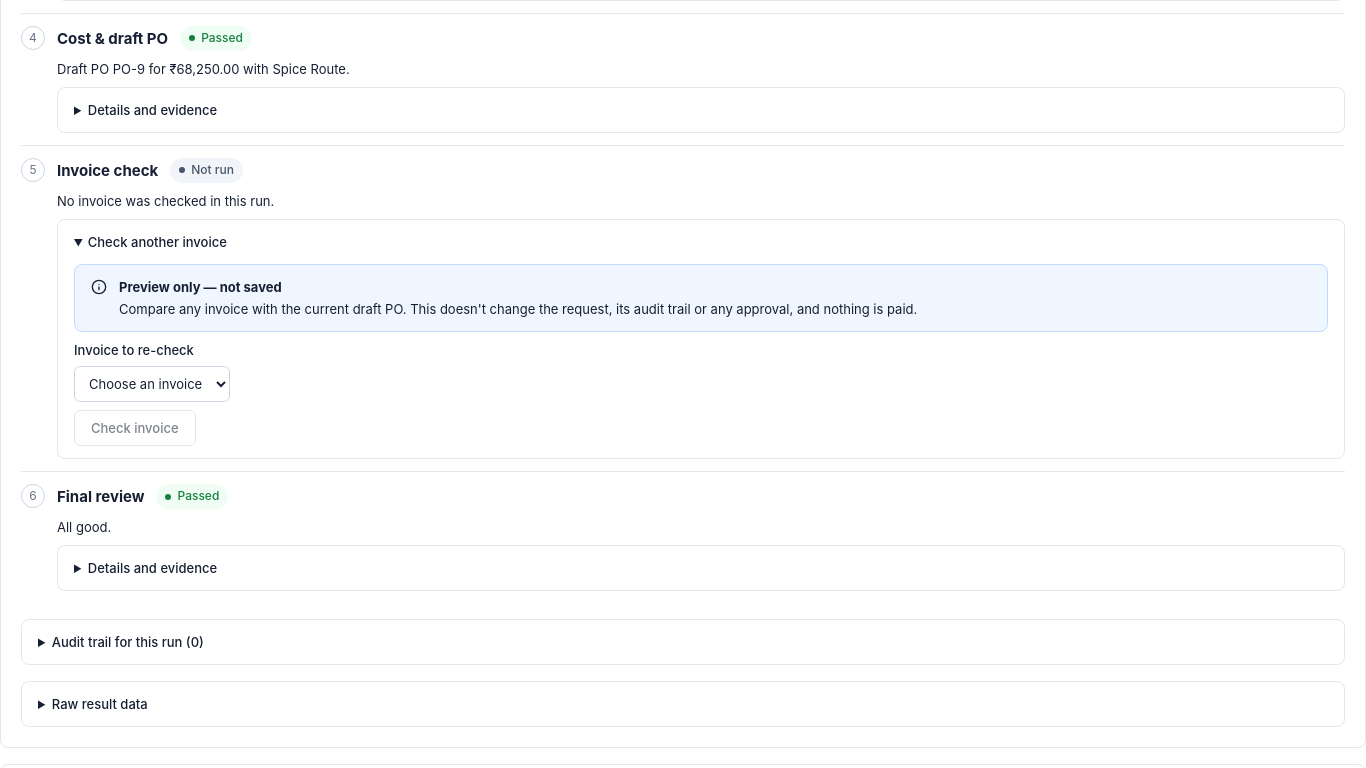
it: AdminRequestDetailPage — ad-hoc invoice re-check › posts {po, invoice_id} and shows a labelled, unsaved mismatch result with checks
(page scrolled)
Select "INV-5003 · V-1" in the dropdown labelled "Invoice to re-check" at [152, 384], box [74,366,230,402]
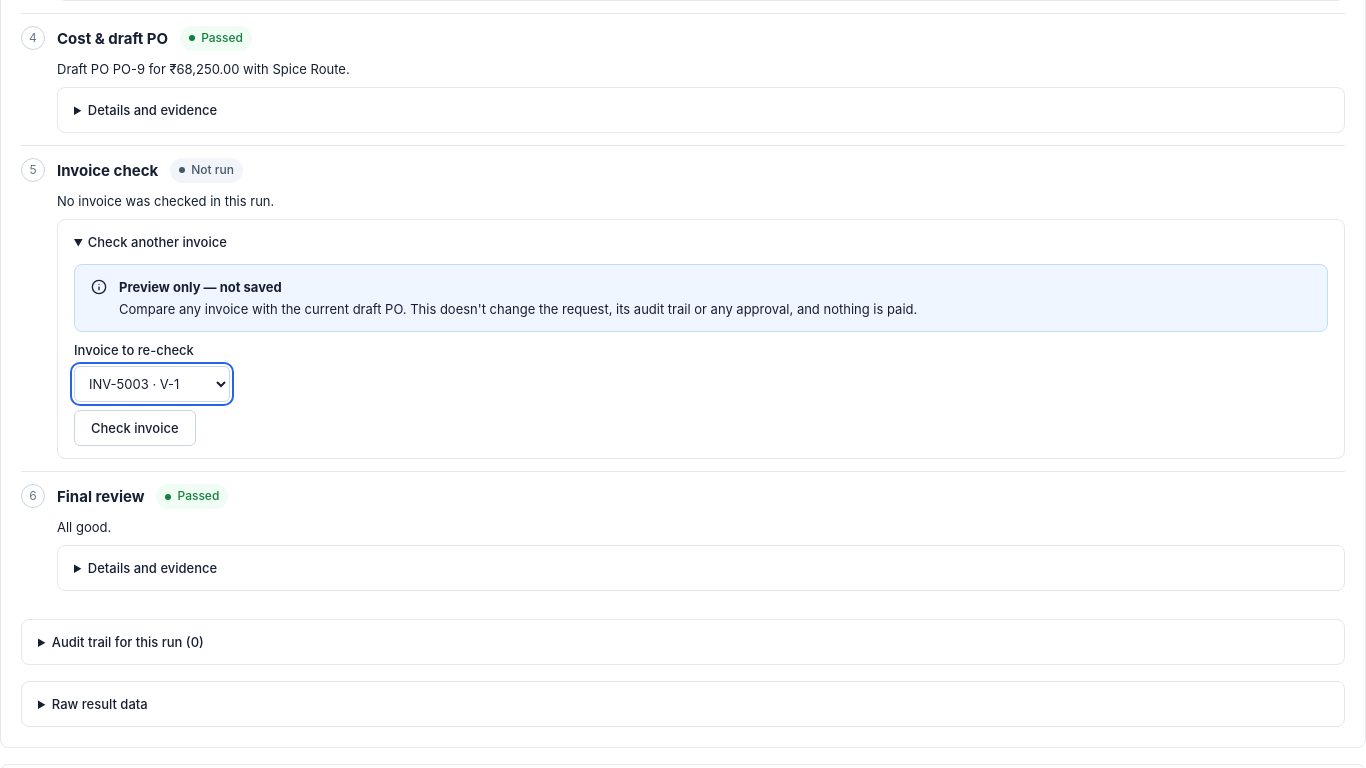
Click the button "Check invoice" at [135, 428], box [74,410,196,446]
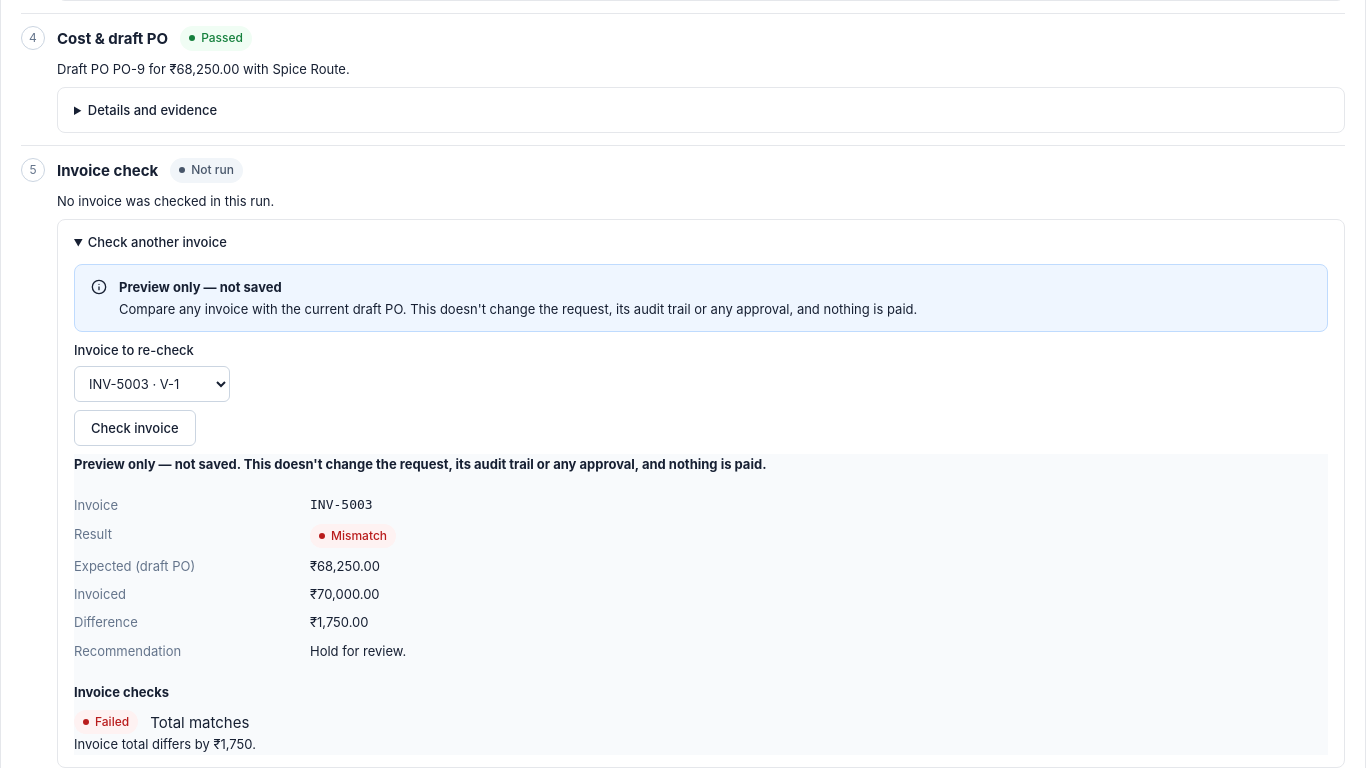
Now the text "Preview only — not saved" is shown, box [74,456,766,472]
Now the text "Mismatch" is shown, box [310,524,396,548]
Now the text "Invoice total differs by ₹1,750." is shown, box [74,736,256,752]
